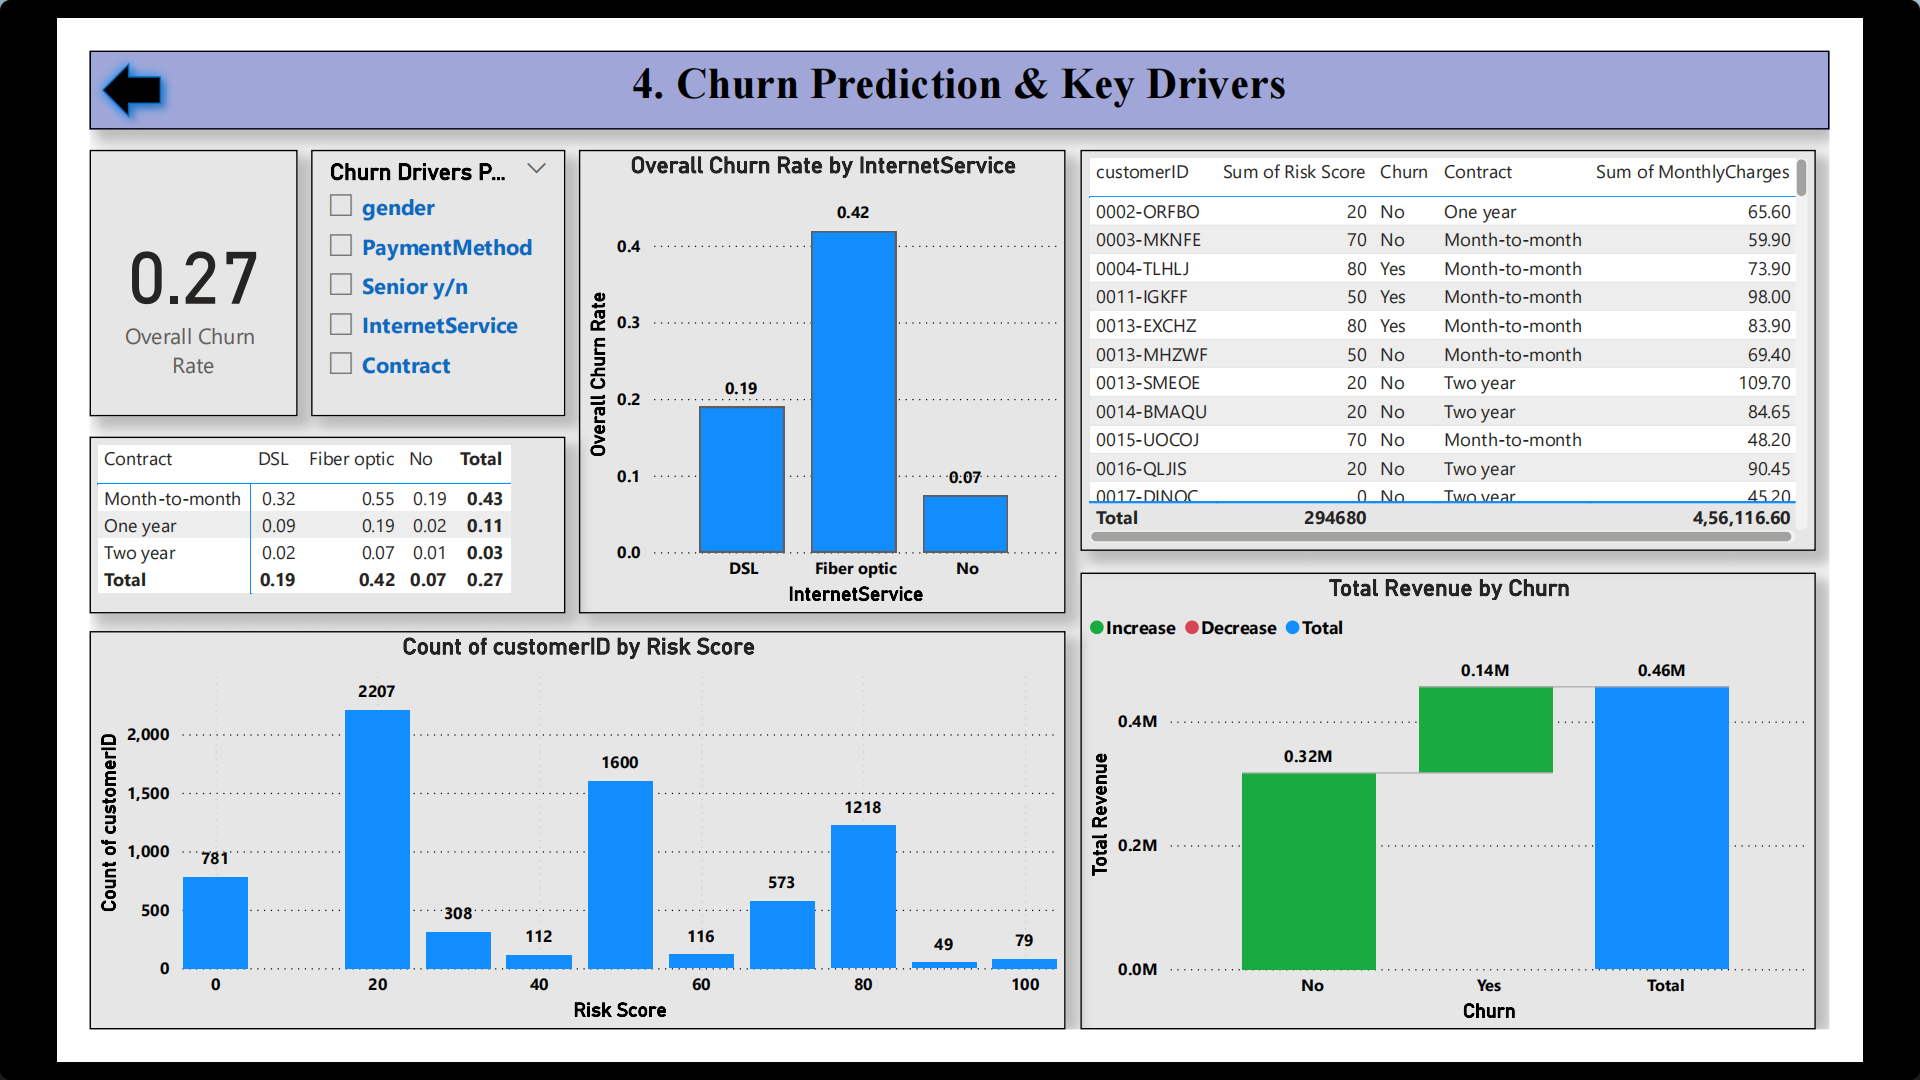

Layout of this report page (visuals, bound fields, positions):
{"tool":"powerbi","page":{"name":"Page 4","canvas":[1280,720],"ordinal":3},"visuals":[{"type":"textbox","box":[0,0,1280,58.5],"z":0},{"type":"card","fields":{"Values":["Data set.Overall Churn Rate"]},"box":[0,73.4,153,195.3],"z":1000},{"type":"slicer","fields":{"Values":["Churn Drivers Parameter.Churn Drivers Parameter"]},"box":[163,73.4,186.6,195.3],"z":2000},{"type":"columnChart","fields":{"Category":["Data set.gender","Data set.PaymentMethod","Data set.Senior y/n","Data set.InternetService","Data set.Contract"],"Y":["Data set.Overall Churn Rate"]},"box":[359.5,73.4,358.3,340.8],"z":3000},{"type":"pivotTable","fields":{"Rows":["Data set.Contract"],"Columns":["Data set.InternetService"],"Values":["Data set.Overall Churn Rate"]},"box":[0,283.6,349.6,130.6],"z":4000},{"type":"waterfallChart","fields":{"Y":["Data set.Total Revenue"],"Category":["Data set.Churn"]},"box":[729,384.4,541.1,335.9],"z":5000},{"type":"clusteredColumnChart","fields":{"Category":["Data set.Risk Score"],"Y":["CountNonNull(Data set.customerID)"]},"box":[0,426.7,717.8,293.6],"z":6000},{"type":"tableEx","fields":{"Values":["Data set.customerID","Sum(Data set.Risk Score)","Data set.Churn","Data set.Contract","Sum(Data set.MonthlyCharges)"]},"box":[729,73.4,541.1,294.8],"z":7000},{"type":"shape","box":[0,0,61,58.5],"z":8000}]}

Visuals, with their boxes in screenshot pixels (x1, y1, x2, y2), scaled from the page's 1280x720 canvas onto the 1920x1080 screenshot:
textbox: bbox(0, 0, 1919, 88)
card - Data set.Overall Churn Rate: bbox(0, 110, 230, 403)
slicer - Churn Drivers Parameter.Churn Drivers Parameter: bbox(244, 110, 524, 403)
columnChart - Data set.gender x Data set.PaymentMethod: bbox(539, 110, 1077, 621)
pivotTable - Data set.Contract x Data set.InternetService: bbox(0, 425, 524, 621)
waterfallChart - Data set.Total Revenue x Data set.Churn: bbox(1094, 577, 1905, 1079)
clusteredColumnChart - Data set.Risk Score x CountNonNull(Data set.customerID): bbox(0, 640, 1077, 1079)
tableEx - Data set.customerID x Sum(Data set.Risk Score): bbox(1094, 110, 1905, 552)
shape: bbox(0, 0, 92, 88)
